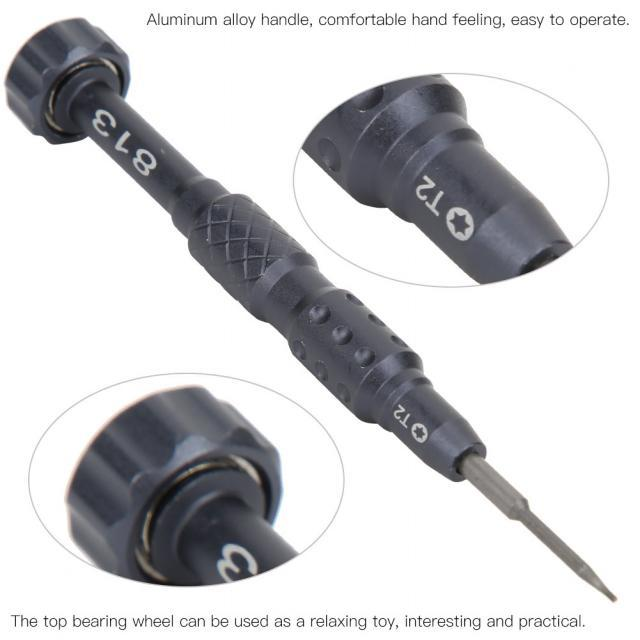screwdriver: (1, 12, 622, 610)
